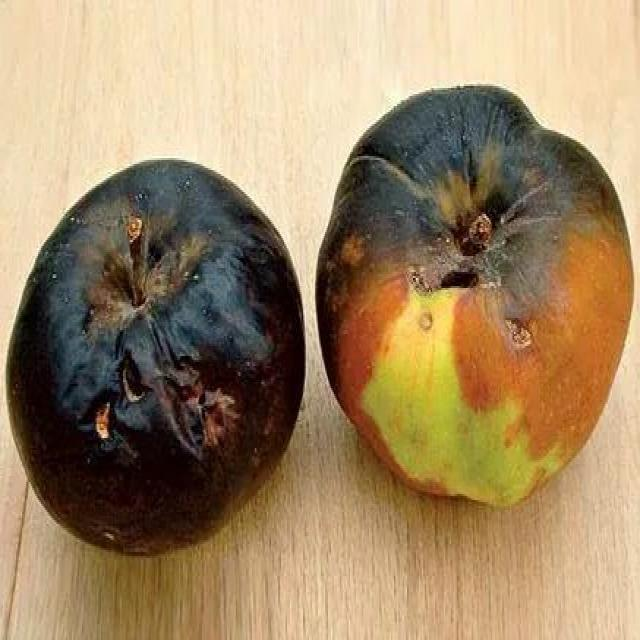Apple: (313, 82, 637, 512), (3, 152, 310, 562)
